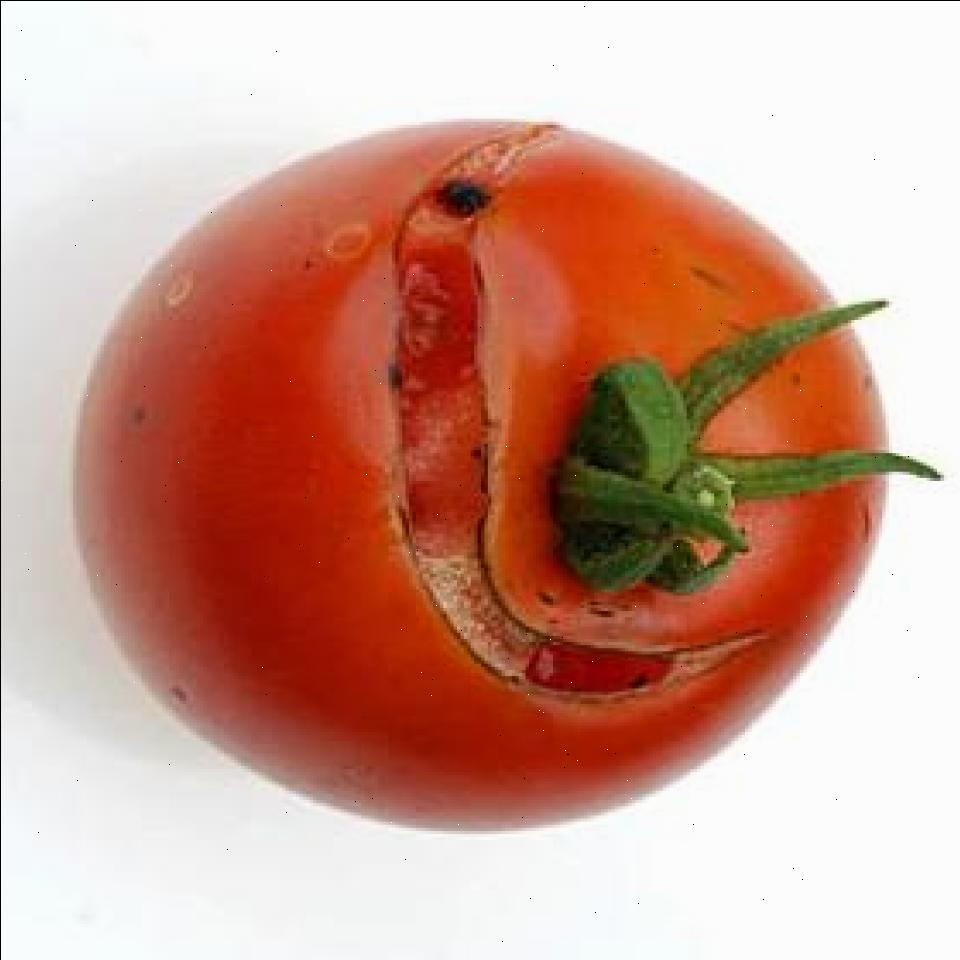Cracking: (346, 109, 807, 749)
